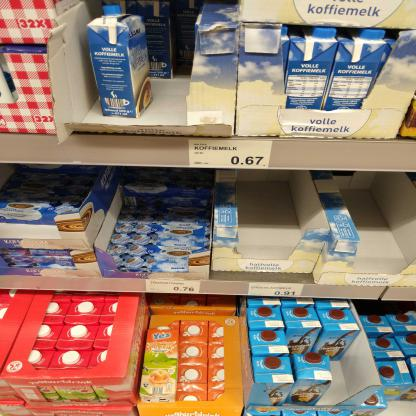prtg: (189, 140, 274, 169), (146, 280, 202, 294), (249, 284, 305, 297)
